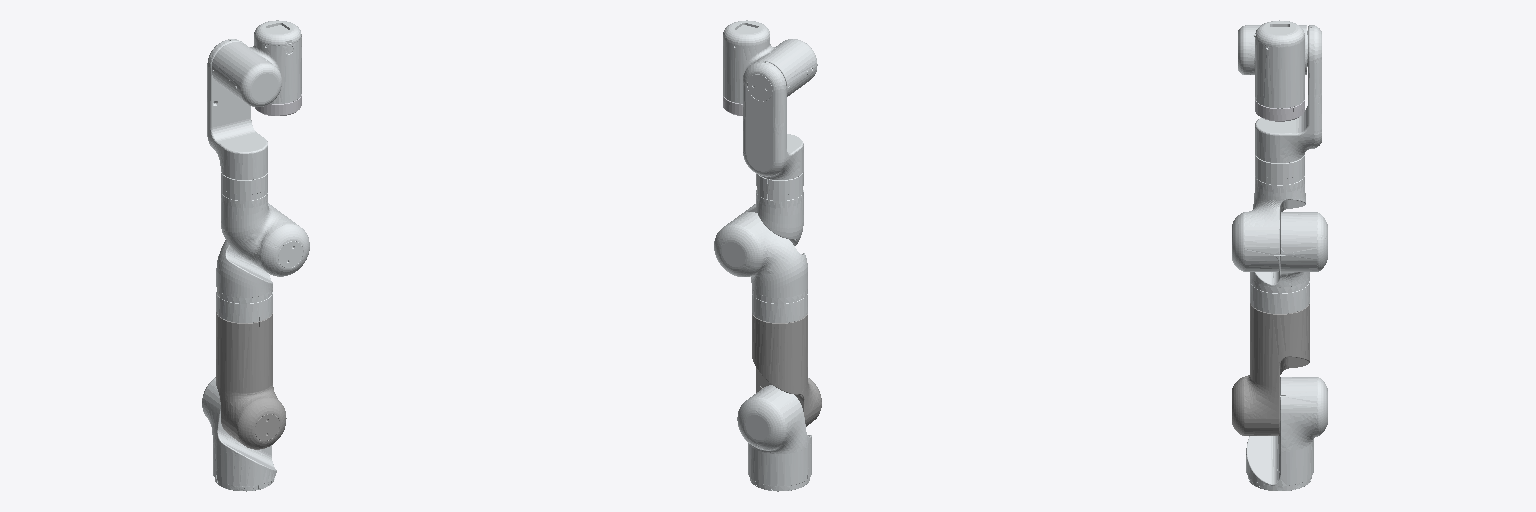
URDF robot description (mercury_a1):
<?xml version="2.0" encoding="utf-8" ?>
<!-- This URDF was automatically created by SolidWorks to URDF Exporter! Originally created by Stephen Brawner (brawner@gmail.com) 
     Commit Version: 1.6.0-4-g7f85cfe  Build Version: 1.6.7995.38578
     For more information, please see http://wiki.ros.org/sw_urdf_exporter -->
<robot name="mercury_a1">
    <link name="base_link">
        <inertial>
            <origin xyz="-0.0123084401473783 -1.63859262758691E-05 -0.0486488242041093" rpy="0 0 0" />
            <mass value="0.480011489444113" />
            <inertia ixx="0.000626058416302638" ixy="-2.57483864297243E-06" ixz="-2.4501776817415E-05" iyy="0.000956236499628875" iyz="2.37877107595374E-06" izz="0.000748625541545906" />
        </inertial>
        <visual>
            <origin xyz="0 0 0" rpy="0 0 0" />
            <geometry>
                <mesh filename="package://a1_urdf/meshes/base_link.STL" />
            </geometry>
            <material name="">
                <color rgba="1 1 1 1" />
            </material>
        </visual>
        <collision>
            <origin xyz="0 0 0" rpy="0 0 0" />
            <geometry>
                <mesh filename="package://a1_urdf/meshes/base_link.STL" />
            </geometry>
        </collision>
    </link>
    <link name="link1">
        <inertial>
            <origin xyz="-0.0012502 0.012099 -0.028968" rpy="0 0 0" />
            <mass value="0.33317" />
            <inertia ixx="0.00045586" ixy="-9.925E-06" ixz="-8.2588E-06" iyy="0.00043954" iyz="-8.8472E-05" izz="0.00020198" />
        </inertial>
        <visual>
            <origin xyz="0 0 0" rpy="0 0 0" />
            <geometry>
                <mesh filename="package://a1_urdf/meshes/link1.STL" />
            </geometry>
            <material name="">
                <color rgba="0.89804 0.91765 0.92941 1" />
            </material>
        </visual>
        <collision>
            <origin xyz="0 0 0" rpy="0 0 0" />
            <geometry>
                <mesh filename="package://a1_urdf/meshes/link1.STL" />
            </geometry>
        </collision>
    </link>
    <joint name="joint1" type="revolute">
        <origin xyz="0 0 0.08364" rpy="0 0 0" />
        <parent link="base_link" />
        <child link="link1" />
        <axis xyz="0 0 1" />
        <limit lower="-2.8798" upper="2.8798" effort="0" velocity="0" />
    </joint>
    <link name="Link2">
        <inertial>
            <origin xyz="-0.00071086 -0.059802 -0.0076451" rpy="0 0 0" />
            <mass value="0.36178" />
            <inertia ixx="0.00078683" ixy="2.9083E-06" ixz="4.623E-06" iyy="0.0002009" iyz="0.00014611" izz="0.00076632" />
        </inertial>
        <visual>
            <origin xyz="0 0 0" rpy="0 0 0" />
            <geometry>
                <mesh filename="package://a1_urdf/meshes/Link2.STL" />
            </geometry>
            <material name="">
                <color rgba="0.69804 0.69804 0.69804 1" />
            </material>
        </visual>
        <collision>
            <origin xyz="0 0 0" rpy="0 0 0" />
            <geometry>
                <mesh filename="package://a1_urdf/meshes/Link2.STL" />
            </geometry>
        </collision>
    </link>
    <joint name="joint2" type="revolute">
        <origin xyz="0 0 0" rpy="-1.5708 0 0" />
        <parent link="link1" />
        <child link="Link2" />
        <axis xyz="0 0 1" />
        <limit lower="-0.8727" upper="2.0944" effort="0" velocity="0" />
    </joint>
    <link name="Link3">
        <inertial>
            <origin xyz="0.0082434 0.0059087 -0.031999" rpy="0 0 0" />
            <mass value="0.28631" />
            <inertia ixx="0.0003389" ixy="-2.3284E-05" ixz="-8.3634E-05" iyy="0.0003926" iyz="-4.7909E-05" izz="0.00020222" />
        </inertial>
        <visual>
            <origin xyz="0 0 0" rpy="0 0 0" />
            <geometry>
                <mesh filename="package://a1_urdf/meshes/Link3.STL" />
            </geometry>
            <material name="">
                <color rgba="0.89804 0.91765 0.92941 1" />
            </material>
        </visual>
        <collision>
            <origin xyz="0 0 0" rpy="0 0 0" />
            <geometry>
                <mesh filename="package://a1_urdf/meshes/Link3.STL" />
            </geometry>
        </collision>
    </link>
    <joint name="joint3" type="revolute">
        <origin xyz="0 -0.20199 0" rpy="1.5708 0 0" />
        <parent link="Link2" />
        <child link="Link3" />
        <axis xyz="0 0 1" />
        <limit lower="-2.8798" upper="2.8798" effort="0" velocity="0" />
    </joint>
    <link name="Link4">
        <inertial>
            <origin xyz="-0.0191569921228133 0.0315772526657402 0.0105543692458914" rpy="0 0 0" />
            <mass value="0.242339225037204" />
            <inertia ixx="0.000320783461902634" ixy="8.28586193108267E-05" ixz="-4.0729367106249E-05" iyy="0.000170273686625699" iyz="7.58935125808109E-05" izz="0.000356030605411011" />
        </inertial>
        <visual>
            <origin xyz="0 0 0" rpy="0 0 0" />
            <geometry>
                <mesh filename="package://a1_urdf/meshes/Link4.STL" />
            </geometry>
            <material name="">
                <color rgba="0.898039215686275 0.917647058823529 0.929411764705882 1" />
            </material>
        </visual>
        <collision>
            <origin xyz="0 0 0" rpy="0 0 0" />
            <geometry>
                <mesh filename="package://a1_urdf/meshes/Link4.STL" />
            </geometry>
        </collision>
    </link>
    <joint name="joint4" type="revolute">
        <origin xyz="0.02953 0 0" rpy="1.5708 0 0" />
        <parent link="Link3" />
        <child link="Link4" />
        <axis xyz="0 0 1" />
        <limit lower="-2.8798" upper="0.0873" effort="0" velocity="0" />
    </joint>
    <link name="Link5">
        <inertial>
            <origin xyz="8.85065363998372E-05 0.0156190326131395 -0.0754383608547499" rpy="0 0 0" />
            <mass value="0.155939982030202" />
            <inertia ixx="0.000329949804584999" ixy="-3.07358055620112E-07" ixz="-2.29337514537968E-07" iyy="0.000294654647810485" iyz="-8.81051089188151E-05" izz="8.97409277948904E-05" />
        </inertial>
        <visual>
            <origin xyz="0 0 0" rpy="0 0 0" />
            <geometry>
                <mesh filename="package://a1_urdf/meshes/Link5.STL" />
            </geometry>
            <material name="">
                <color rgba="0.898039215686275 0.917647058823529 0.929411764705882 1" />
            </material>
        </visual>
        <collision>
            <origin xyz="0 0 0" rpy="0 0 0" />
            <geometry>
                <mesh filename="package://a1_urdf/meshes/Link5.STL" />
            </geometry>
        </collision>
    </link>
    <joint name="joint5" type="revolute">
        <origin xyz="-0.02953 0.20602 0" rpy="-1.5708 0 0" />
        <parent link="Link4" />
        <child link="Link5" />
        <axis xyz="0 0 1" />
        <limit lower="-2.8798" upper="2.8798" effort="0" velocity="0" />
    </joint>
    <link name="Link6">
        <inertial>
            <origin xyz="0.0304456963337666 0.00289289251234901 -0.00140790618278646" rpy="0 0 0" />
            <mass value="0.227233689100569" />
            <inertia ixx="0.000157733682624378" ixy="-7.60696528568783E-06" ixz="-9.78783628134812E-06" iyy="0.000180888483633054" iyz="-8.5039906031172E-07" izz="0.000220814948993568" />
        </inertial>
        <visual>
            <origin xyz="0 0 0" rpy="0 0 0" />
            <geometry>
                <mesh filename="package://a1_urdf/meshes/Link6.STL" />
            </geometry>
            <material name="">
                <color rgba="0.898039215686275 0.917647058823529 0.929411764705882 1" />
            </material>
        </visual>
        <collision>
            <origin xyz="0 0 0" rpy="0 0 0" />
            <geometry>
                <mesh filename="package://a1_urdf/meshes/Link6.STL" />
            </geometry>
        </collision>
    </link>
    <joint name="joint6" type="revolute">
        <origin xyz="0 0 0" rpy="1.5708 0 0" />
        <parent link="Link5" />
        <child link="Link6" />
        <axis xyz="0 0 1" />
        <limit lower="-0.3491" upper="4.6251" effort="0" velocity="0" />
    </joint>
    <link name="Link7">
        <inertial>
            <origin xyz="4.47832628851508E-05 -2.29928034365445E-05 -0.00815023101567416" rpy="0 0 0" />
            <mass value="0.0300324439188857" />
            <inertia ixx="5.68918212733788E-06" ixy="-3.73294774986682E-08" ixz="-4.85025377809747E-09" iyy="5.6483229039185E-06" iyz="2.87250318179369E-09" izz="1.0270808717622E-05" />
        </inertial>
        <visual>
            <origin xyz="0 0 0" rpy="0 0 0" />
            <geometry>
                <mesh filename="package://a1_urdf/meshes/Link7.STL" />
            </geometry>
            <material name="">
                <color rgba="0.866666666666667 0.866666666666667 0.890196078431372 1" />
            </material>
        </visual>
        <collision>
            <origin xyz="0 0 0" rpy="0 0 0" />
            <geometry>
                <mesh filename="package://a1_urdf/meshes/Link7.STL" />
            </geometry>
        </collision>
    </link>
    <joint name="joint7" type="revolute">
        <origin xyz="0.042 -0.05101 0" rpy="1.5708 0 0" />
        <parent link="Link6" />
        <child link="Link7" />
        <axis xyz="0 0 1" />
        <limit lower="-3.1416" upper="3.1416" effort="0" velocity="0" />
    </joint>
    <transmission name="trans_joint1">
        <type>transmission_interface/SimpleTransmission</type>
        <joint name="joint1">
            <hardwareInterface>hardware_interface/EffortJointInterface</hardwareInterface>
        </joint>
        <actuator name="joint1_motor">
            <hardwareInterface>hardware_interface/EffortJointInterface</hardwareInterface>
            <mechanicalReduction>1</mechanicalReduction>
        </actuator>
    </transmission>
    <transmission name="trans_joint2">
        <type>transmission_interface/SimpleTransmission</type>
        <joint name="joint2">
            <hardwareInterface>hardware_interface/EffortJointInterface</hardwareInterface>
        </joint>
        <actuator name="joint2_motor">
            <hardwareInterface>hardware_interface/EffortJointInterface</hardwareInterface>
            <mechanicalReduction>1</mechanicalReduction>
        </actuator>
    </transmission>
    <transmission name="trans_joint3">
        <type>transmission_interface/SimpleTransmission</type>
        <joint name="joint3">
            <hardwareInterface>hardware_interface/EffortJointInterface</hardwareInterface>
        </joint>
        <actuator name="joint3_motor">
            <hardwareInterface>hardware_interface/EffortJointInterface</hardwareInterface>
            <mechanicalReduction>1</mechanicalReduction>
        </actuator>
    </transmission>
    <transmission name="trans_joint4">
        <type>transmission_interface/SimpleTransmission</type>
        <joint name="joint4">
            <hardwareInterface>hardware_interface/EffortJointInterface</hardwareInterface>
        </joint>
        <actuator name="joint4_motor">
            <hardwareInterface>hardware_interface/EffortJointInterface</hardwareInterface>
            <mechanicalReduction>1</mechanicalReduction>
        </actuator>
    </transmission>
    <transmission name="trans_joint5">
        <type>transmission_interface/SimpleTransmission</type>
        <joint name="joint5">
            <hardwareInterface>hardware_interface/EffortJointInterface</hardwareInterface>
        </joint>
        <actuator name="joint5_motor">
            <hardwareInterface>hardware_interface/EffortJointInterface</hardwareInterface>
            <mechanicalReduction>1</mechanicalReduction>
        </actuator>
    </transmission>
    <transmission name="trans_joint6">
        <type>transmission_interface/SimpleTransmission</type>
        <joint name="joint6">
            <hardwareInterface>hardware_interface/EffortJointInterface</hardwareInterface>
        </joint>
        <actuator name="joint6_motor">
            <hardwareInterface>hardware_interface/EffortJointInterface</hardwareInterface>
            <mechanicalReduction>1</mechanicalReduction>
        </actuator>
    </transmission>
    <transmission name="trans_joint7">
        <type>transmission_interface/SimpleTransmission</type>
        <joint name="joint7">
            <hardwareInterface>hardware_interface/EffortJointInterface</hardwareInterface>
        </joint>
        <actuator name="joint7_motor">
            <hardwareInterface>hardware_interface/EffortJointInterface</hardwareInterface>
            <mechanicalReduction>1</mechanicalReduction>
        </actuator>
    </transmission>
    <gazebo>
        <plugin name="gazebo_ros_control" filename="libgazebo_ros_control.so">
            <robotNamespace>/</robotNamespace>
        </plugin>
    </gazebo>
</robot>

--- Render facts (derived) ---
The picture shows the robot from 3 angles, left to right: view 1: azimuth 30°, elevation 25°; view 2: azimuth 150°, elevation 25°; view 3: azimuth 270°, elevation 25°; orthographic projection.
Model mercury_a1 with 8 links and 7 joints (7 revolute), rooted at base_link, posed every joint at zero.
Links seen in each view (by area): view 1: Link2, Link4, Link6, Link5, link1, Link3; view 2: Link3, link1, Link5, Link2, Link6, Link4; view 3: Link2, link1, Link4, Link3, Link6, Link5, Link7.
Link boxes in pixels (x1,y1,x2,y2): Link2: [216, 312, 286, 449]; Link4: [221, 172, 309, 276]; Link6: [212, 20, 301, 106]; Link5: [207, 39, 267, 179]; link1: [202, 377, 276, 491]; Link3: [216, 203, 280, 322]; Link3: [714, 212, 807, 322]; link1: [737, 385, 811, 491]; Link5: [743, 61, 803, 179]; Link2: [752, 314, 821, 426]; Link6: [723, 20, 817, 103]; Link4: [742, 172, 803, 245]; Link2: [1232, 303, 1309, 435]; link1: [1246, 377, 1327, 490]; Link4: [1232, 155, 1305, 271]; Link3: [1250, 212, 1327, 313]; Link6: [1238, 20, 1306, 108]; Link5: [1255, 25, 1321, 162]; Link7: [1255, 100, 1304, 121].
Size in the robot's own frame: 0.103 by 0.1 by 0.5351 metres.
7 mesh visuals loaded from 8 distinct referenced files (7 binary STL); not drawn: 1 (reference not matched to a file when rendering).
